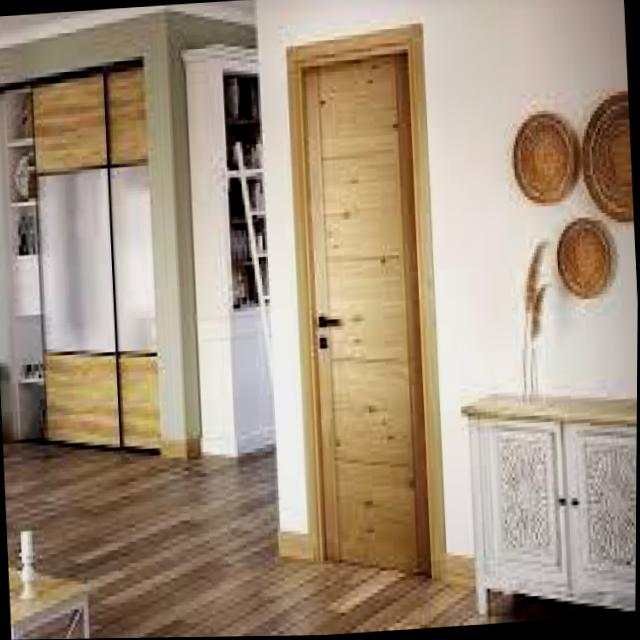close: (274, 10, 460, 599)
